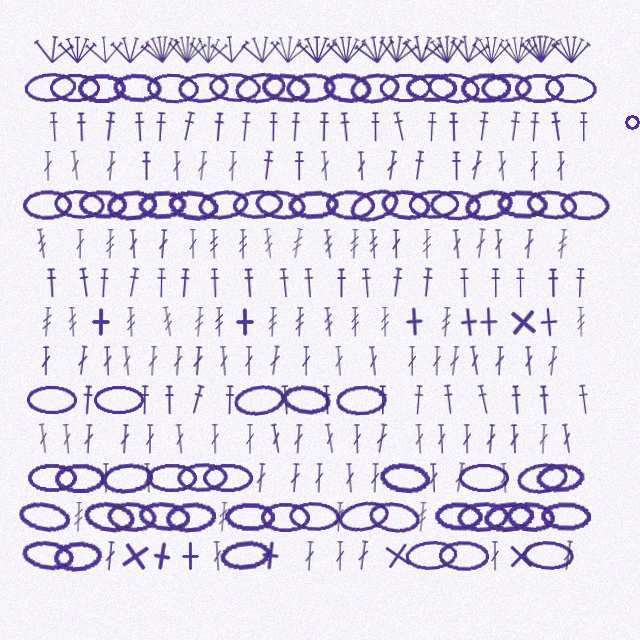chain: (346, 183, 403, 227), (336, 497, 392, 536), (16, 498, 72, 536), (462, 185, 516, 224), (233, 69, 288, 106), (20, 537, 75, 574), (426, 70, 482, 106), (82, 498, 136, 535), (253, 187, 308, 223), (166, 187, 220, 223), (196, 187, 250, 223), (232, 382, 286, 418), (515, 460, 569, 496), (367, 499, 421, 535), (348, 70, 401, 106), (280, 382, 333, 418), (379, 187, 433, 222), (137, 499, 191, 534), (218, 538, 272, 573), (321, 70, 374, 105), (378, 460, 431, 495), (482, 499, 535, 534), (525, 188, 579, 222), (100, 461, 154, 495), (105, 188, 158, 222), (164, 500, 217, 534), (23, 71, 77, 104), (231, 188, 285, 221), (404, 539, 458, 572), (260, 71, 312, 105), (52, 539, 104, 573), (177, 71, 230, 104), (208, 71, 261, 104), (53, 188, 106, 221), (456, 500, 509, 533), (522, 539, 575, 572), (106, 500, 158, 533), (505, 500, 557, 533), (146, 72, 199, 104), (544, 72, 597, 104), (480, 72, 532, 104), (287, 189, 339, 221), (429, 189, 481, 221), (559, 189, 611, 221), (335, 384, 387, 416), (112, 72, 163, 104), (137, 189, 188, 221), (535, 462, 586, 494), (285, 72, 337, 103), (496, 189, 548, 220), (176, 462, 228, 493), (288, 501, 340, 532), (460, 72, 511, 103), (22, 189, 73, 220), (408, 189, 459, 220), (540, 501, 591, 532), (438, 540, 489, 571), (379, 73, 431, 103), (405, 73, 457, 103), (26, 385, 78, 415), (93, 385, 145, 415), (458, 463, 510, 493), (78, 189, 128, 220), (325, 189, 375, 220), (434, 501, 484, 532), (49, 73, 100, 103), (514, 73, 565, 103), (27, 463, 78, 493), (54, 463, 105, 493), (146, 463, 197, 493), (202, 463, 253, 493), (224, 502, 275, 532), (77, 73, 127, 103), (260, 502, 310, 532)
double: (469, 150, 484, 181), (374, 423, 389, 454), (385, 150, 399, 181), (268, 345, 282, 376), (468, 345, 482, 376), (269, 423, 283, 454), (323, 423, 337, 454), (560, 423, 574, 454), (453, 462, 467, 493), (356, 540, 370, 571), (561, 540, 575, 571), (69, 150, 82, 181), (474, 228, 487, 259), (76, 345, 89, 376), (37, 423, 50, 454), (196, 151, 209, 181), (367, 346, 380, 376), (448, 346, 461, 376), (546, 346, 559, 376), (105, 151, 117, 181), (319, 151, 331, 181), (496, 151, 508, 181), (157, 229, 169, 259), (451, 229, 463, 259), (523, 229, 535, 259), (121, 346, 133, 376), (147, 346, 159, 376), (172, 346, 184, 376), (192, 346, 204, 376), (218, 346, 230, 376), (333, 346, 345, 376), (523, 346, 535, 376), (61, 424, 73, 454), (119, 424, 131, 454), (174, 424, 186, 454), (485, 424, 497, 454), (142, 463, 154, 493), (255, 463, 267, 493), (289, 463, 301, 493), (344, 463, 356, 493), (104, 541, 116, 571), (227, 151, 238, 181), (356, 151, 367, 181), (128, 229, 139, 259), (493, 229, 504, 259), (102, 346, 113, 376), (494, 346, 505, 376), (83, 424, 94, 454), (293, 424, 304, 454), (414, 424, 425, 454), (436, 424, 447, 454), (509, 424, 520, 454), (538, 424, 549, 454), (428, 463, 439, 493), (499, 463, 510, 493), (212, 541, 223, 571), (304, 541, 315, 571), (43, 151, 53, 181), (172, 151, 182, 181), (529, 151, 539, 181), (556, 151, 566, 181), (75, 229, 85, 259), (188, 229, 198, 259), (391, 229, 401, 259), (41, 346, 51, 376), (244, 346, 254, 376), (301, 346, 311, 376), (407, 346, 417, 376), (432, 346, 442, 376), (145, 424, 155, 454), (210, 424, 220, 454), (245, 424, 255, 454), (352, 424, 362, 454), (462, 424, 472, 454), (101, 463, 111, 493), (314, 463, 324, 493), (370, 463, 380, 493), (335, 541, 345, 571), (490, 541, 500, 571)
fan: (353, 31, 397, 67), (423, 31, 467, 67), (139, 31, 182, 66), (377, 31, 420, 66), (448, 31, 491, 66), (32, 32, 75, 66), (240, 32, 282, 65), (268, 32, 310, 65), (401, 32, 443, 65), (84, 32, 125, 65), (210, 32, 251, 65), (167, 33, 208, 64), (188, 33, 229, 64), (520, 33, 561, 64), (110, 34, 150, 64), (297, 34, 337, 64), (326, 34, 366, 64), (498, 34, 538, 64), (551, 34, 591, 64), (58, 34, 97, 64), (472, 34, 511, 64)
half_double: (179, 111, 197, 142), (188, 384, 206, 415), (391, 111, 408, 142), (475, 384, 492, 415), (125, 267, 141, 298), (102, 111, 117, 142), (507, 111, 522, 142), (549, 111, 564, 142), (260, 150, 275, 181), (411, 150, 426, 181), (77, 267, 92, 298), (476, 111, 490, 142), (390, 267, 404, 298), (420, 267, 434, 298), (442, 384, 456, 415), (577, 384, 591, 415), (242, 268, 256, 298), (302, 268, 316, 298), (133, 112, 146, 142), (154, 112, 167, 142), (212, 112, 225, 142), (239, 112, 252, 142), (289, 112, 302, 142), (339, 112, 352, 142), (528, 112, 541, 142), (45, 268, 58, 298), (178, 268, 191, 298), (278, 268, 291, 298), (360, 268, 373, 298), (81, 385, 94, 415), (279, 385, 292, 415), (412, 385, 425, 415), (510, 385, 523, 415), (538, 385, 551, 415), (48, 112, 60, 142), (318, 112, 330, 142), (426, 112, 438, 142), (293, 151, 305, 181), (98, 268, 110, 298), (209, 268, 221, 298), (547, 268, 559, 298), (574, 268, 586, 298), (321, 385, 333, 415), (76, 112, 87, 142), (268, 112, 279, 142), (370, 112, 381, 142), (448, 112, 459, 142), (578, 112, 589, 142), (141, 151, 152, 181), (451, 151, 462, 181), (156, 268, 167, 298), (336, 268, 347, 298), (459, 268, 470, 298), (490, 268, 501, 298), (515, 268, 526, 298), (139, 385, 150, 415), (164, 385, 175, 415), (224, 385, 235, 415), (377, 385, 388, 415)
noise: (623, 113, 640, 132)
single: (380, 538, 415, 573), (118, 539, 152, 573), (145, 539, 178, 573), (254, 539, 287, 572), (453, 306, 485, 338), (507, 306, 539, 338), (533, 306, 565, 338), (399, 306, 430, 337), (473, 306, 504, 337), (86, 307, 116, 337), (230, 307, 260, 337), (175, 541, 205, 571), (506, 541, 536, 571)
treble: (290, 228, 305, 259), (35, 228, 49, 259), (161, 306, 175, 337), (262, 228, 275, 259), (322, 229, 335, 259), (556, 229, 569, 259), (322, 307, 335, 337), (41, 307, 53, 337), (193, 307, 205, 337), (440, 307, 452, 337), (217, 502, 229, 532), (333, 502, 345, 532), (416, 502, 428, 532), (349, 229, 360, 259), (368, 229, 379, 259), (67, 307, 78, 337), (267, 307, 278, 337), (294, 307, 305, 337), (73, 502, 84, 532), (105, 229, 115, 259), (209, 229, 219, 259), (238, 229, 248, 259), (422, 229, 432, 259), (126, 307, 136, 337), (214, 307, 224, 337), (350, 307, 360, 337), (380, 307, 390, 337), (576, 307, 586, 337)
